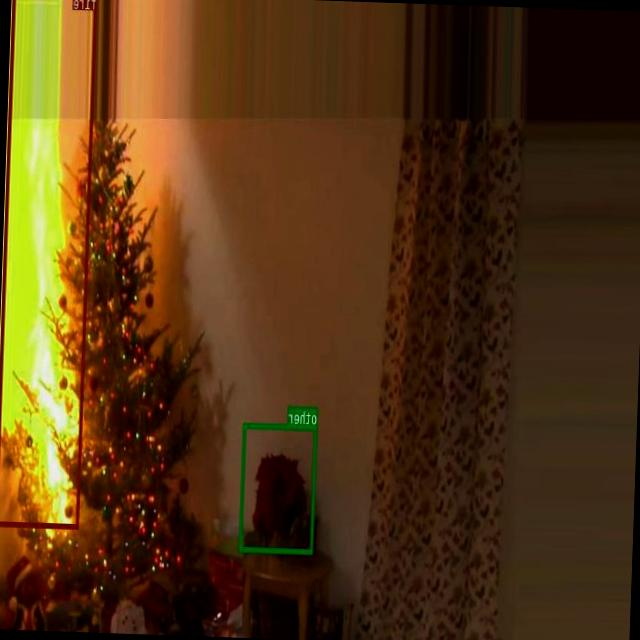fire: (0, 0, 98, 527)
